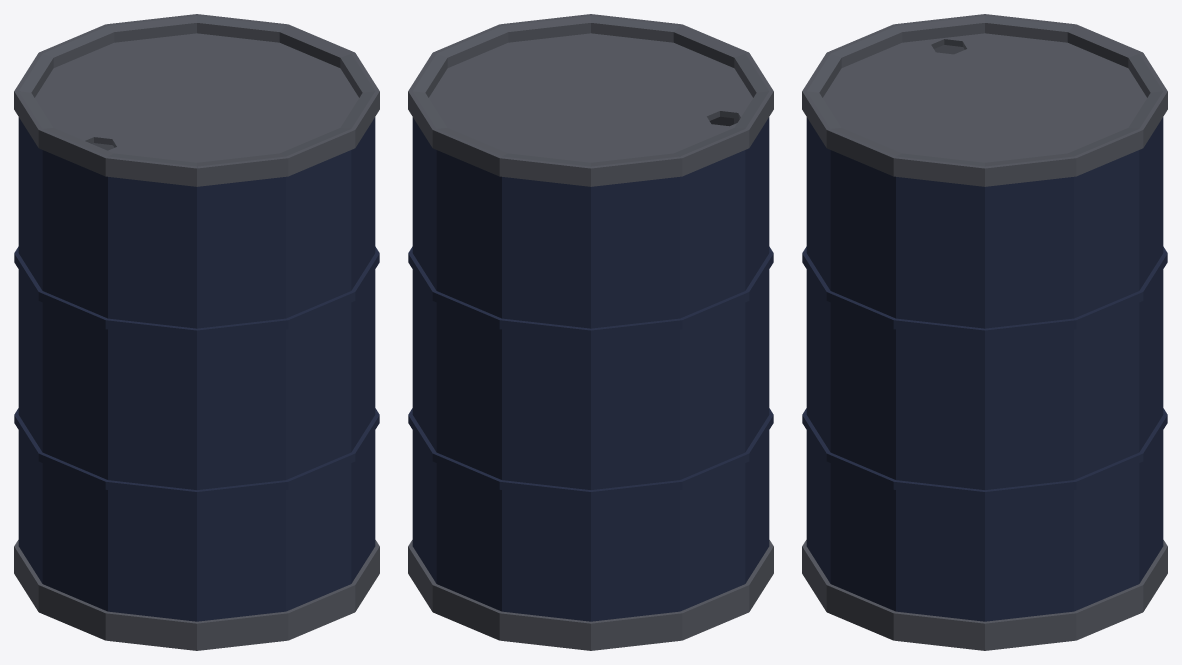
File: chem bin blue 1.fbx
3 views of the same model, side by side, from view 1: azimuth 30°, elevation 25°; view 2: azimuth 150°, elevation 25°; view 3: azimuth 270°, elevation 25° (orthographic).
Visible parts, largest first — view 1: pCylinder11; view 2: pCylinder11; view 3: pCylinder11.
Part boxes in pixels (<box>): pCylinder11: <box>14,14,379,650</box>; pCylinder11: <box>408,14,773,650</box>; pCylinder11: <box>802,14,1167,650</box>.
Bounding box in the file's own units: 61.53 × 89.57 × 61.53.
1 material, 1 textured.
